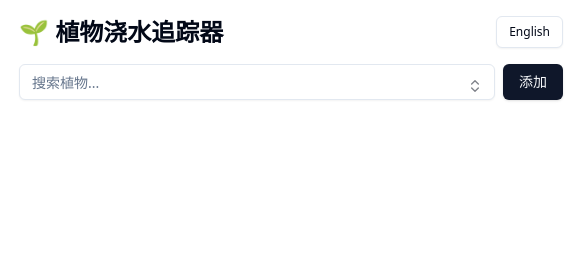
Test: PlantTracker › Autocomplete functionality › adds selected plant to the list
Type "monstera" into the field with placeholder "搜索植物..." at (257, 82), box top-left (19, 64), bottom-right (495, 100)
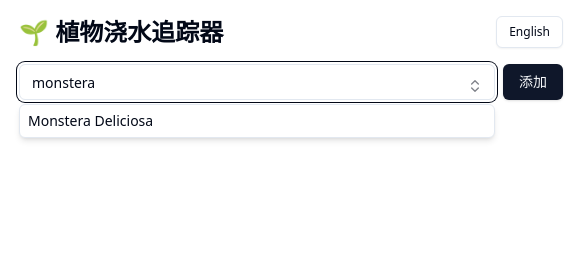
# Click the chevron to open dropdown
Click the button with test id "chevron" at (475, 86), box top-left (463, 74), bottom-right (487, 98)
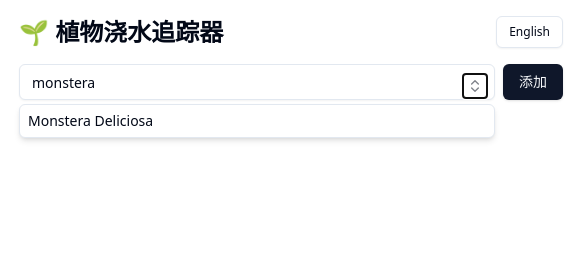
Click the option "Monstera Deliciosa" at (91, 120), box top-left (28, 111), bottom-right (153, 130)
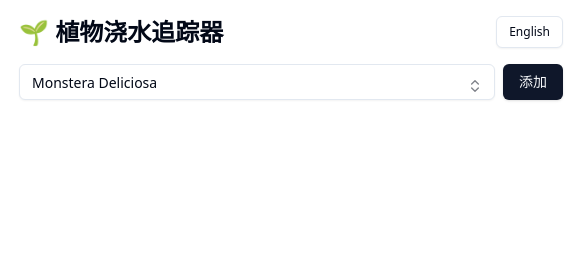
Click the button "添加" at (533, 82), box top-left (503, 64), bottom-right (563, 100)
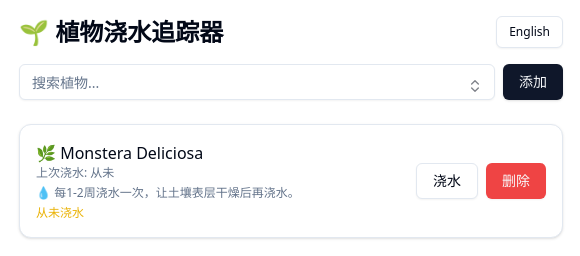
Expected: the text "🌿 Monstera" is shown, top-left (36, 142), bottom-right (203, 164)
